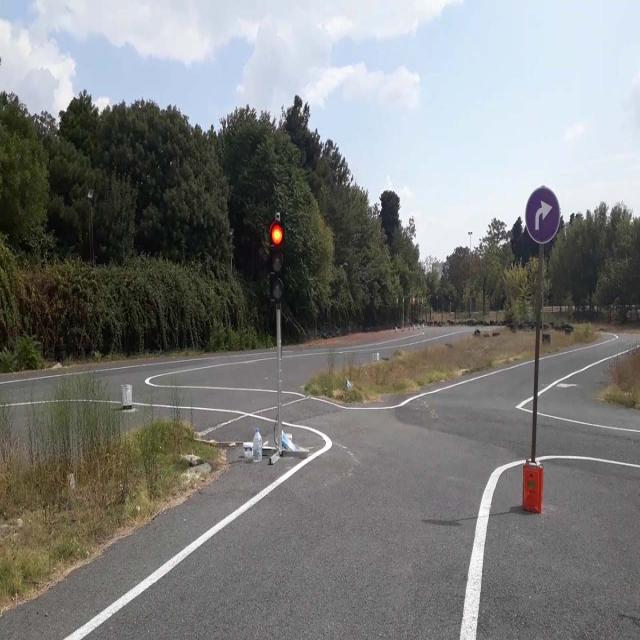kirmizi: (270, 222, 286, 302)
sag: (526, 189, 560, 241)
